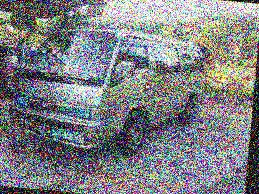van: (0, 18, 213, 164)
